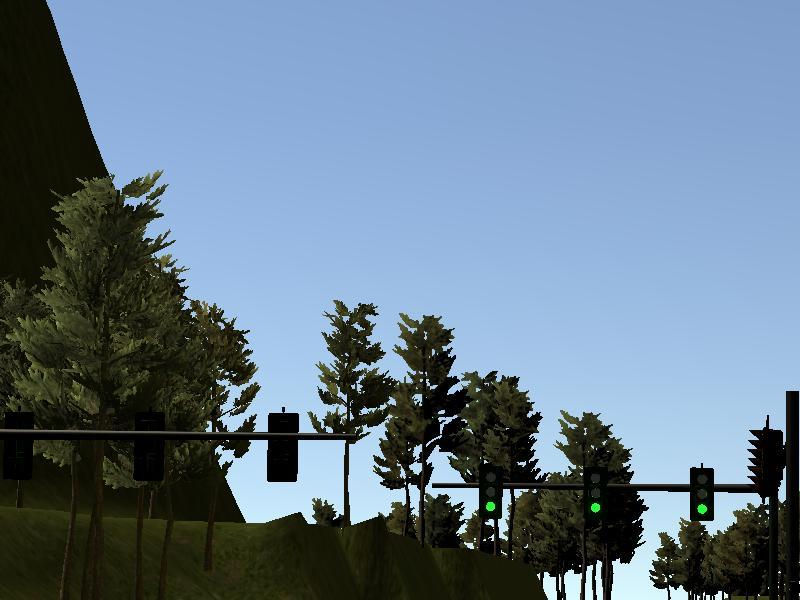Green: (691, 468, 715, 519), (586, 466, 609, 518), (479, 467, 501, 518)
